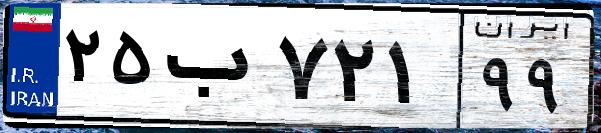1: (385, 28, 445, 110)
2: (330, 28, 385, 110), (57, 26, 110, 100)
5: (110, 28, 158, 98)
7: (270, 28, 330, 110)
9: (475, 38, 525, 113), (525, 38, 570, 115)
ب: (158, 20, 270, 120)
